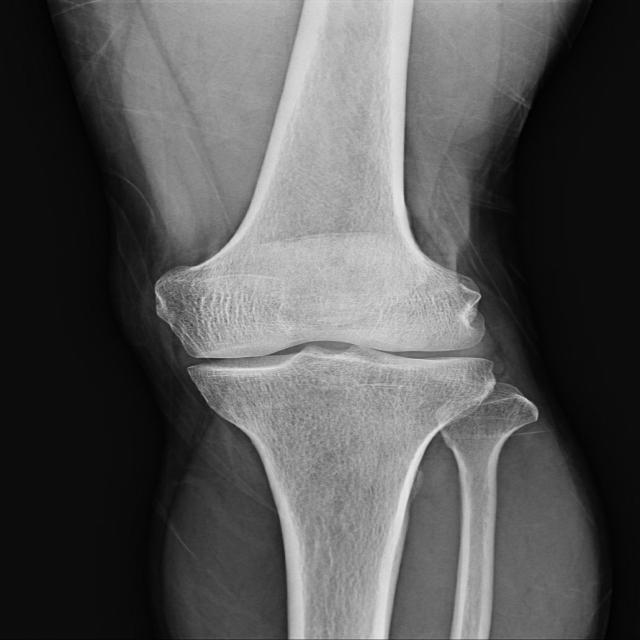osteo: (156, 255, 510, 418)
